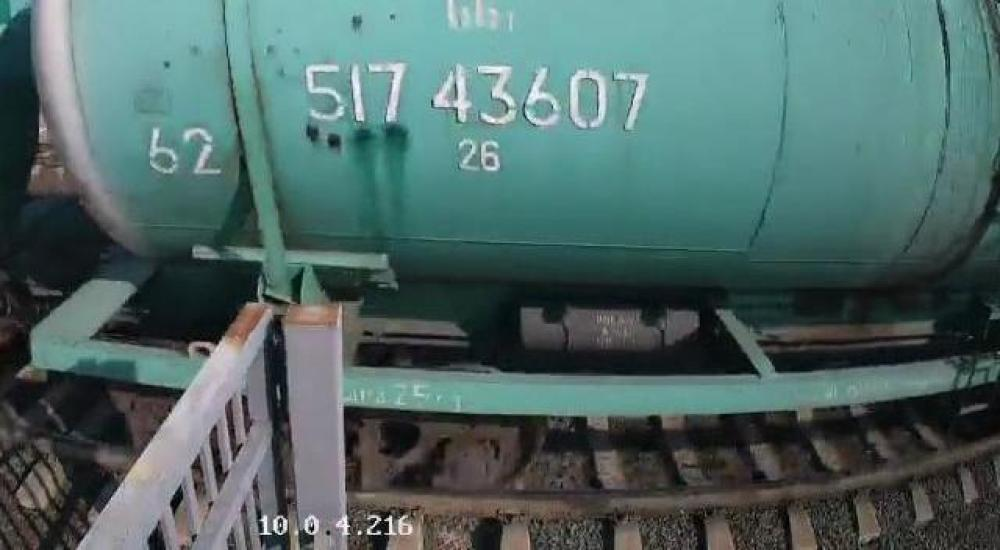Wagon-number: (297, 57, 659, 137)
